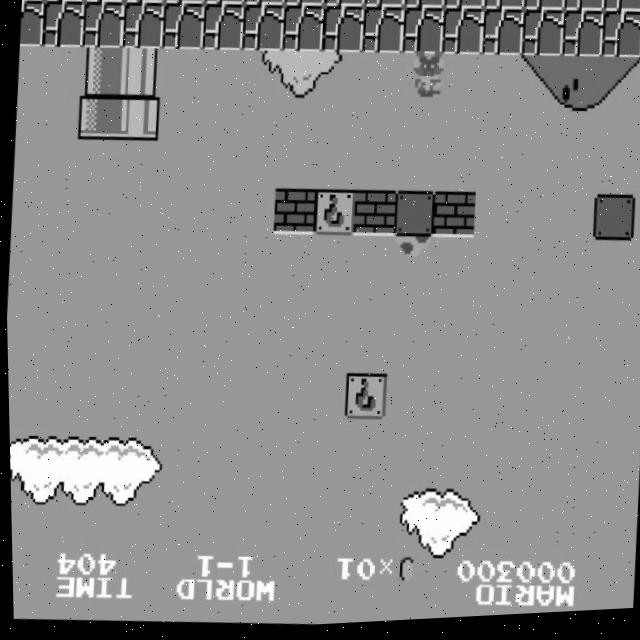1- brick_block: (430, 194, 475, 245), (351, 191, 395, 242), (271, 189, 315, 240)
11- little_mario: (406, 53, 453, 107)
12- mushroom: (390, 235, 435, 266)
13- mystery_block: (311, 190, 355, 241), (341, 375, 386, 424)
14- pipe: (118, 47, 163, 98), (78, 46, 123, 97)
15- pipe_head: (115, 93, 160, 143), (76, 92, 121, 142)
17- undestructible_block: (560, 14, 605, 65), (440, 10, 485, 61), (400, 9, 445, 60), (360, 8, 405, 59), (320, 7, 365, 58), (280, 6, 325, 57), (240, 5, 285, 56), (160, 2, 205, 53), (120, 1, 165, 52), (80, 0, 125, 51), (480, 12, 525, 62), (200, 4, 245, 54), (520, 13, 564, 64), (41, 0, 85, 50), (600, 15, 640, 66), (19, 0, 44, 47), (562, 0, 606, 19), (522, 0, 566, 18), (602, 0, 640, 20), (482, 0, 526, 17), (442, 0, 486, 16), (403, 0, 446, 15), (363, 0, 406, 13), (322, 0, 365, 12), (282, 0, 325, 11), (242, 0, 285, 10), (203, 0, 246, 9), (163, 0, 206, 7), (123, 0, 166, 6), (83, 0, 126, 5), (43, 0, 86, 4)
3- empty_block: (590, 198, 635, 249), (390, 192, 435, 243)
